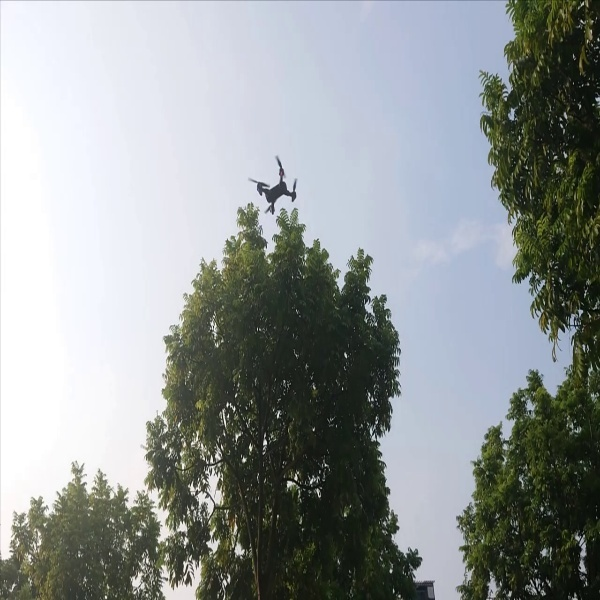drone: (246, 150, 305, 213)
